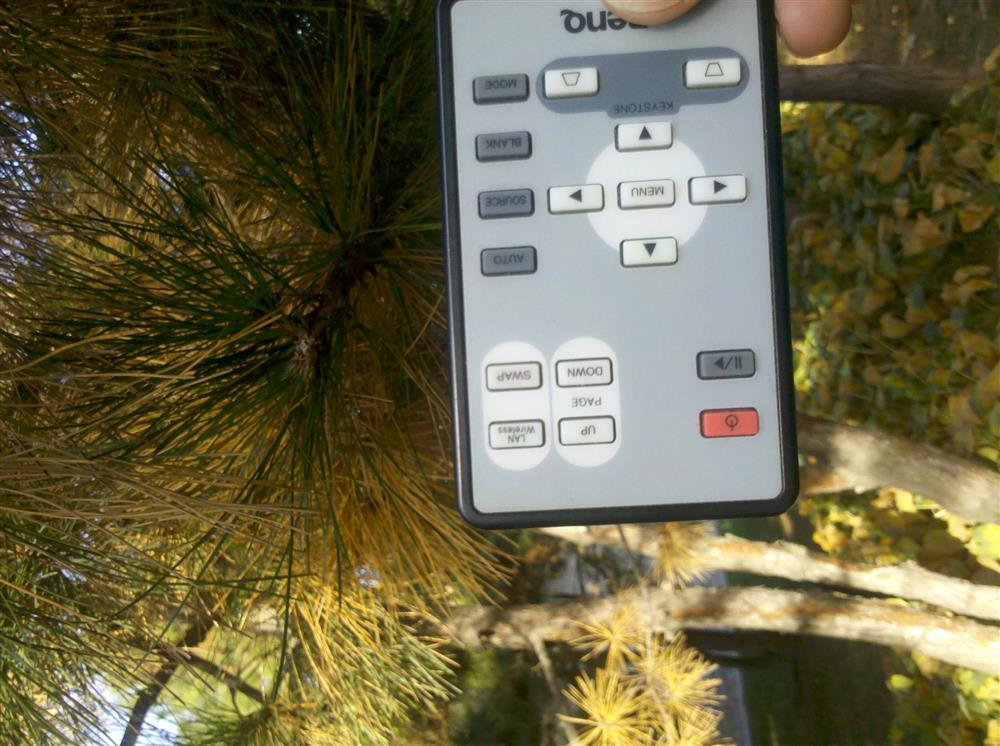BenQ_remote: (418, 9, 799, 508)
